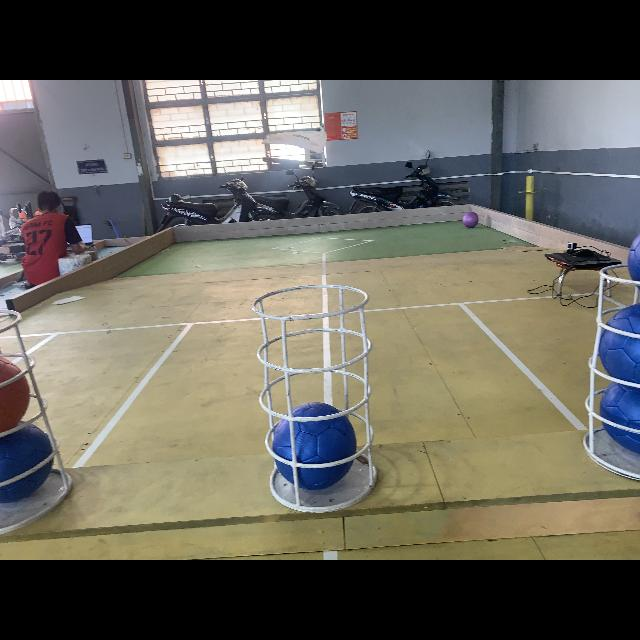B: (272, 401, 358, 491), (0, 420, 58, 504), (598, 304, 640, 388), (598, 380, 640, 456), (624, 231, 640, 295)
R: (1, 354, 34, 436)
